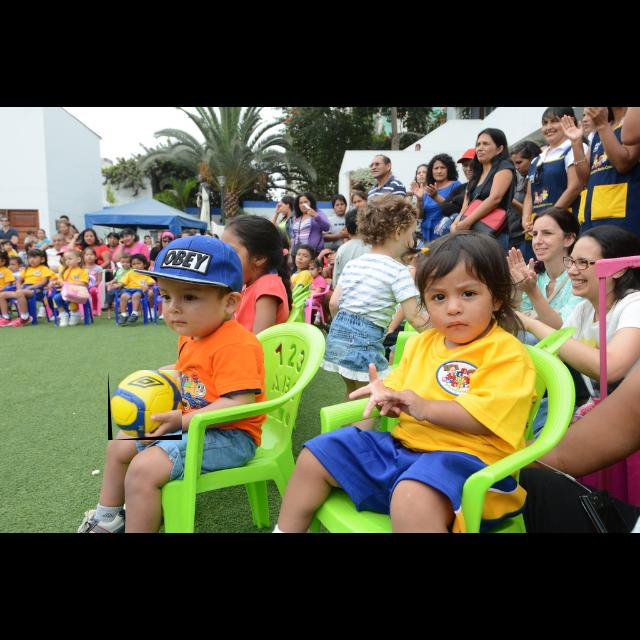Football: (108, 370, 182, 440)
